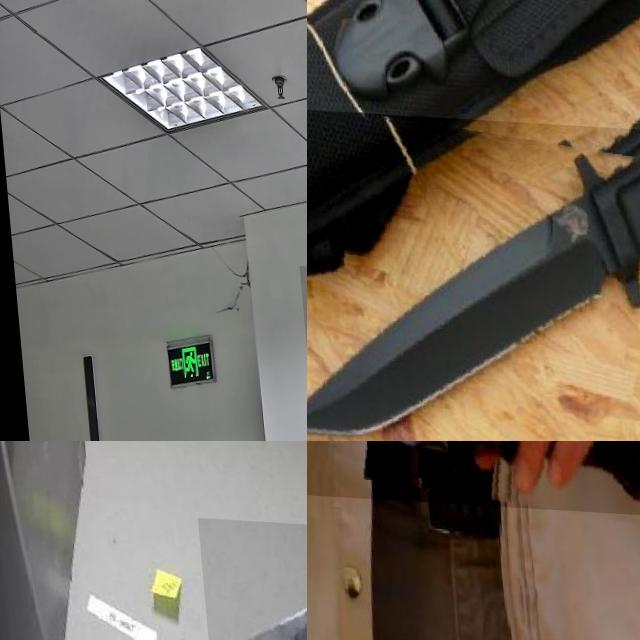-: (307, 105, 640, 441), (307, 441, 640, 541), (191, 514, 307, 640)
